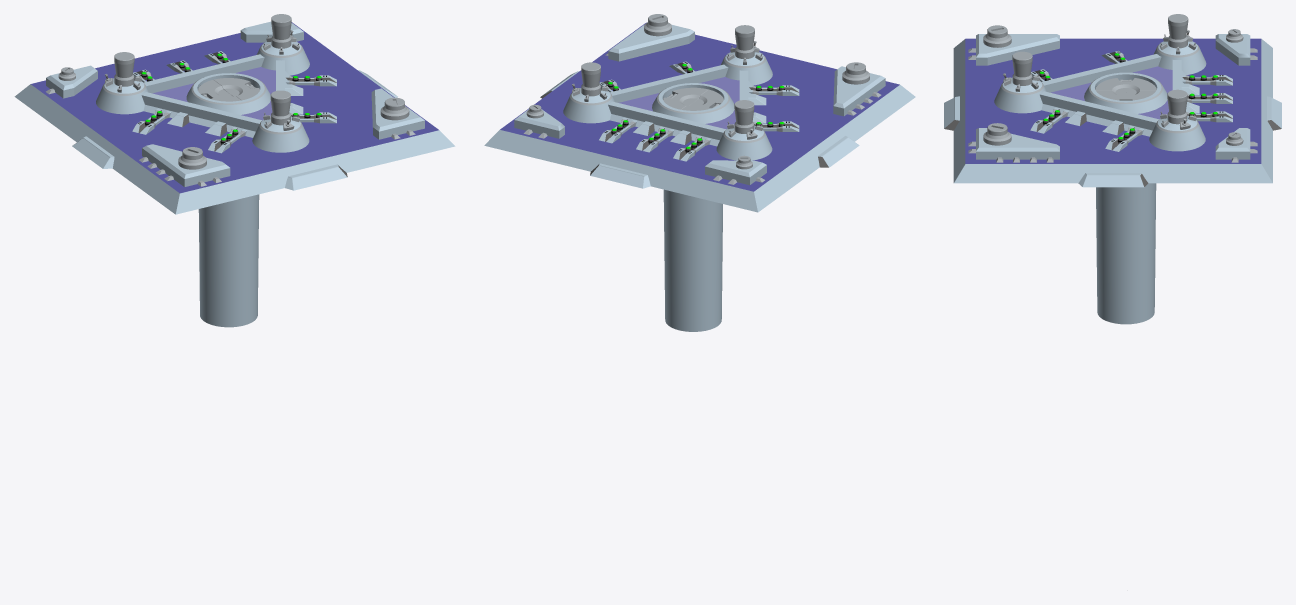
Rendered from Maaker7.fbx.
The picture shows the model from 3 angles, left to right: view 1: azimuth 30°, elevation 25°; view 2: azimuth 150°, elevation 25°; view 3: azimuth 270°, elevation 25°; orthographic projection. The views are drawn at different scales.
Parts seen in each view (by area): view 1: foundation_12, hole_base, boots, base, _pillar3, _pillar1, _pillar2, deets, door; view 2: foundation_12, hole_base, boots, base, _pillar1, _pillar2, deets, _pillar3, door; view 3: foundation_12, hole_base, boots, base, _pillar2, deets, _pillar3, _pillar1, door (×2), railstock6, railstock3.
Part boxes in pixels (x1,y1,x2,y2): foundation_12: (14, 22, 455, 214); hole_base: (186, 73, 270, 327); boots: (46, 21, 424, 190); base: (141, 54, 289, 137); _pillar3: (252, 90, 309, 152); _pillar1: (96, 52, 148, 114); _pillar2: (256, 14, 309, 75); deets: (46, 67, 415, 186); door: (214, 78, 259, 100); foundation_12: (484, 22, 915, 212); hole_base: (652, 83, 734, 331); boots: (514, 22, 885, 188); base: (608, 64, 752, 146); _pillar1: (716, 100, 772, 160); _pillar2: (563, 62, 614, 123); deets: (523, 14, 881, 184); _pillar3: (721, 25, 772, 85); door: (663, 87, 708, 109); foundation_12: (953, 38, 1272, 183); hole_base: (1084, 72, 1167, 324); boots: (944, 34, 1281, 187); base: (1039, 54, 1185, 136); _pillar2: (1149, 89, 1205, 151); deets: (968, 25, 1257, 162); _pillar3: (994, 51, 1046, 113); _pillar1: (1153, 14, 1206, 74); door (×2): (1095, 78, 1156, 100); railstock6: (1182, 75, 1232, 85); railstock3: (1105, 126, 1144, 151).
Size of the model in its own units: 517 by 897 by 517.
